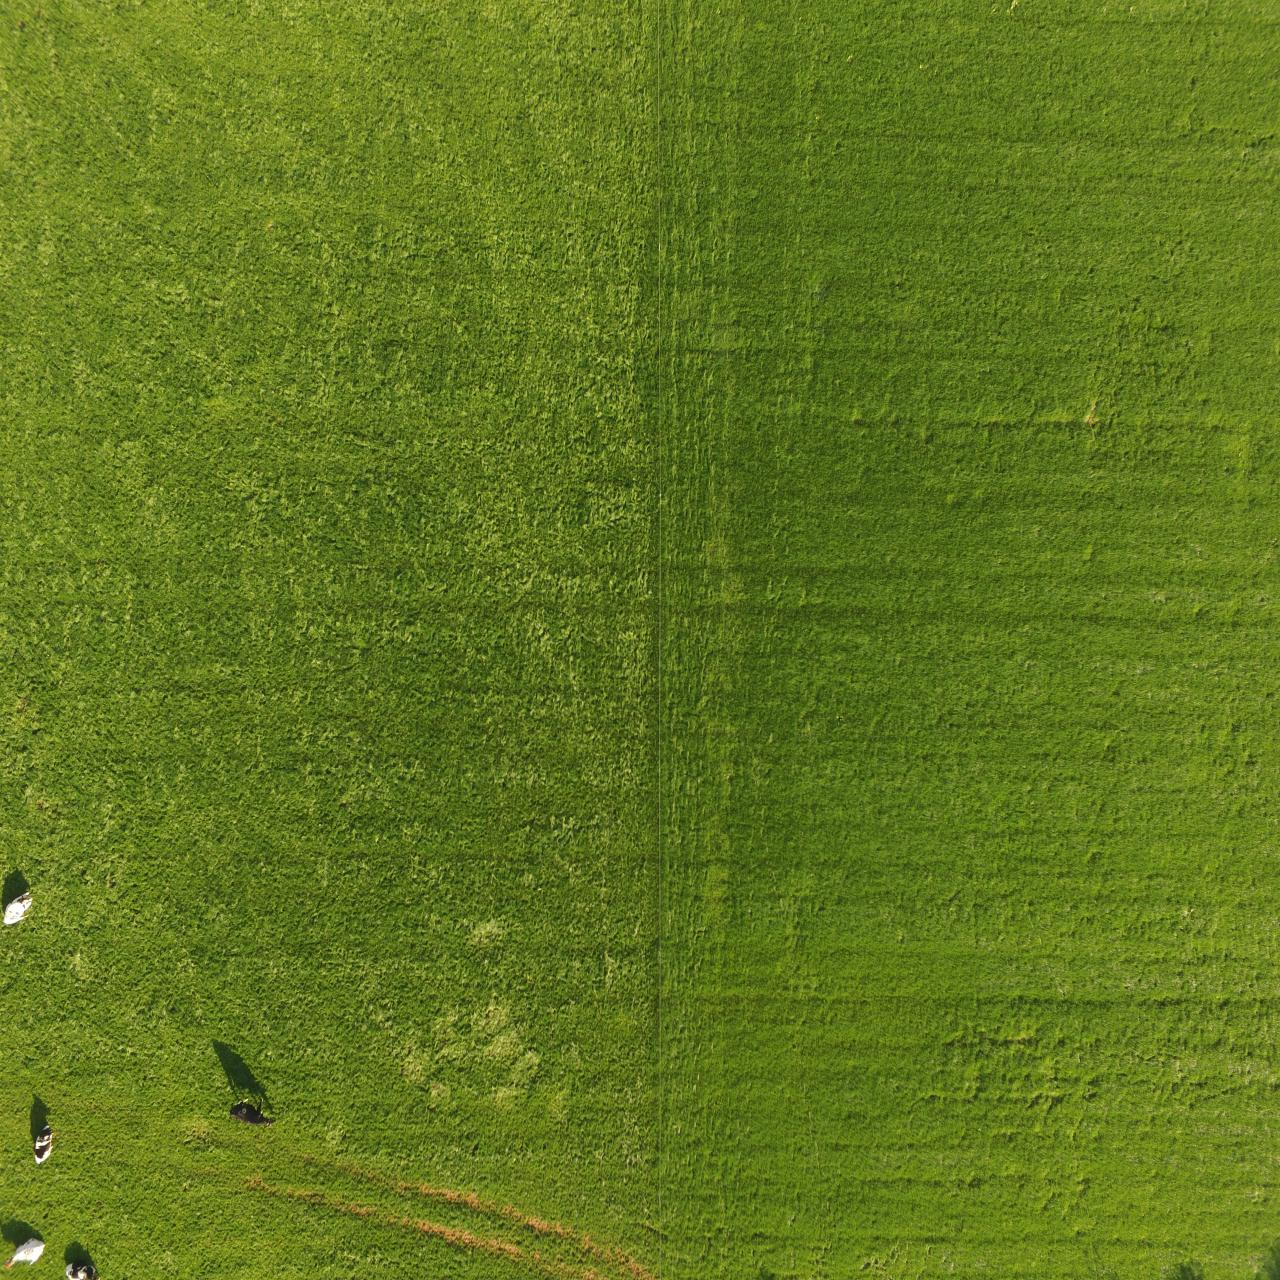cow: (226, 1096, 281, 1132), (1, 1235, 48, 1276), (32, 1122, 57, 1170), (2, 892, 33, 924)
